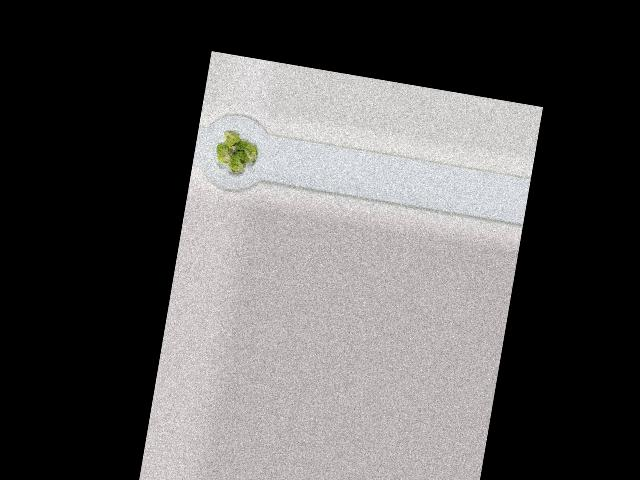lettuce: (213, 128, 264, 178)
